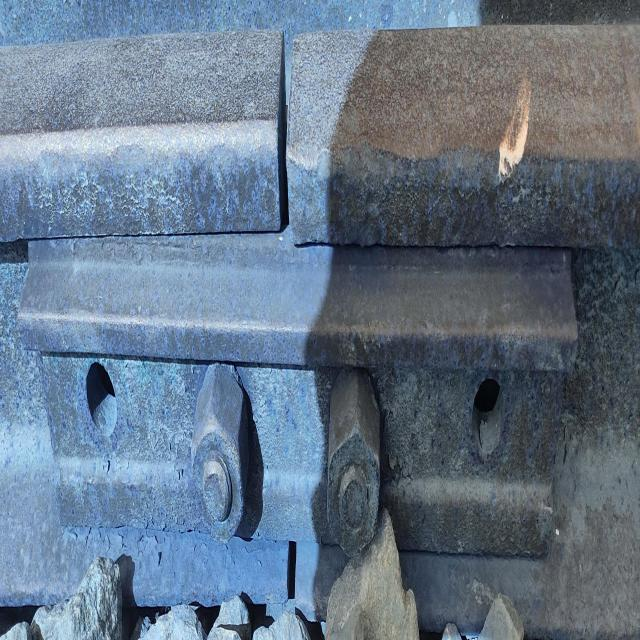Defective Joint: (17, 231, 577, 547)
